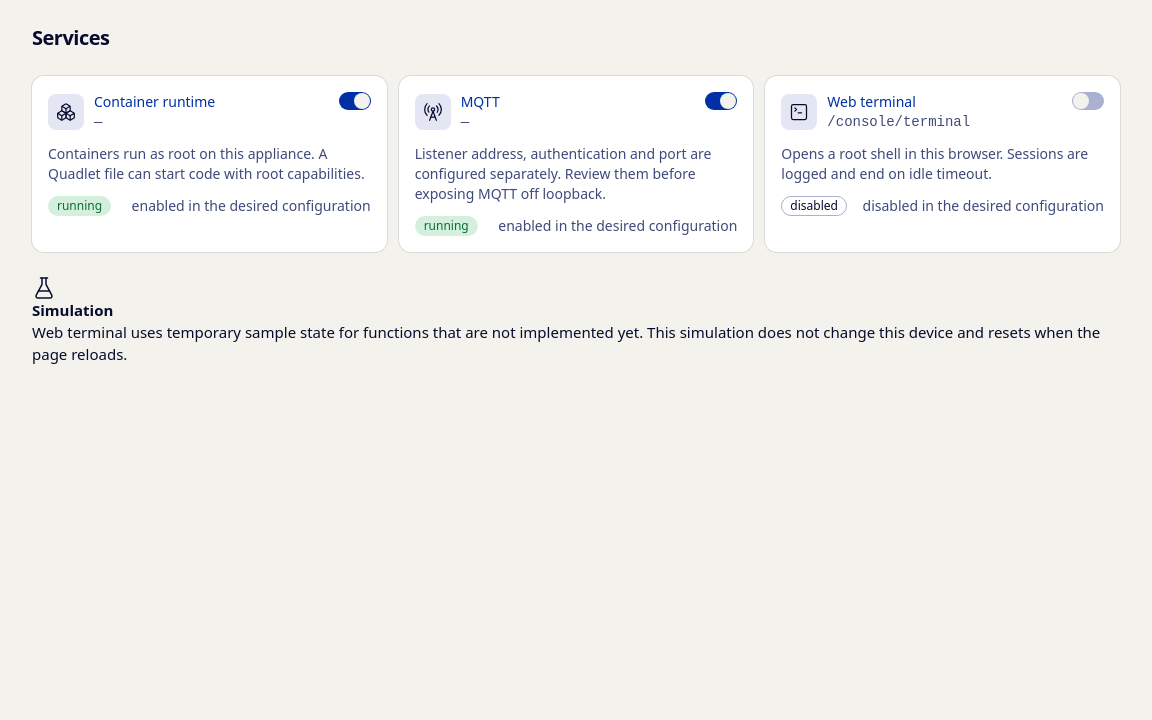
Test case: the services page › names the device refusal rather than a generic failure
Click the switch named "Container runtime": coordinates (355, 101) [339,92,371,110]
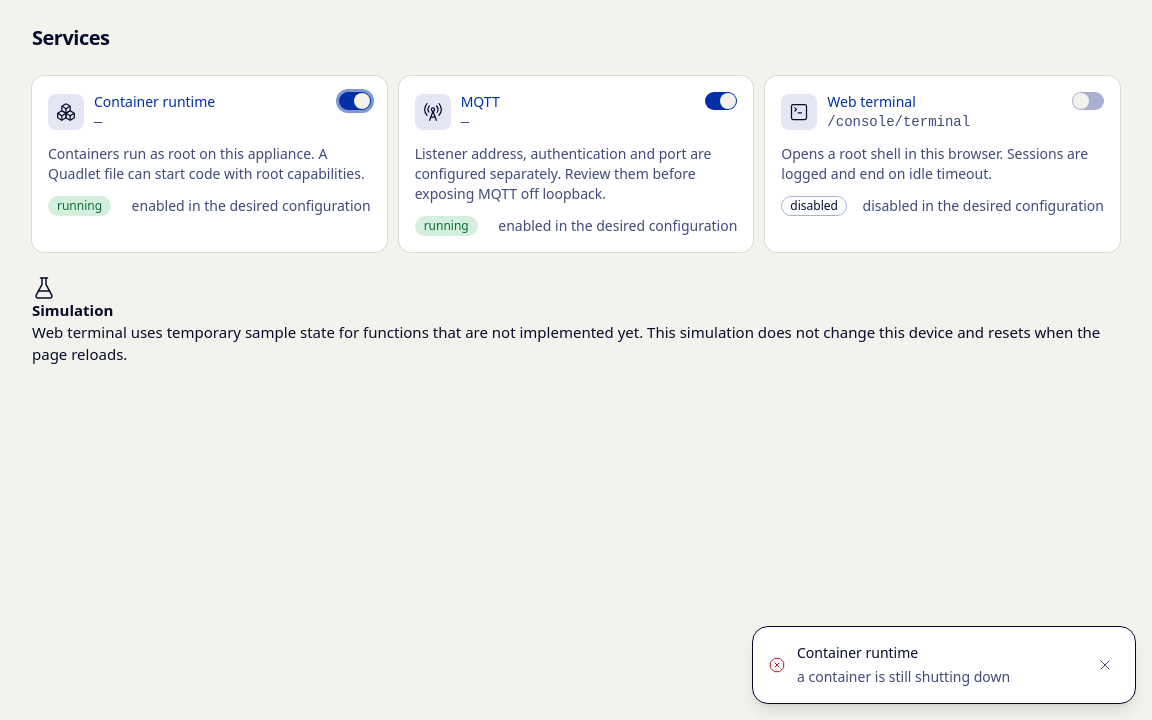
Now the text "a container is still shutting down" is shown, box [797,667,1010,686]
